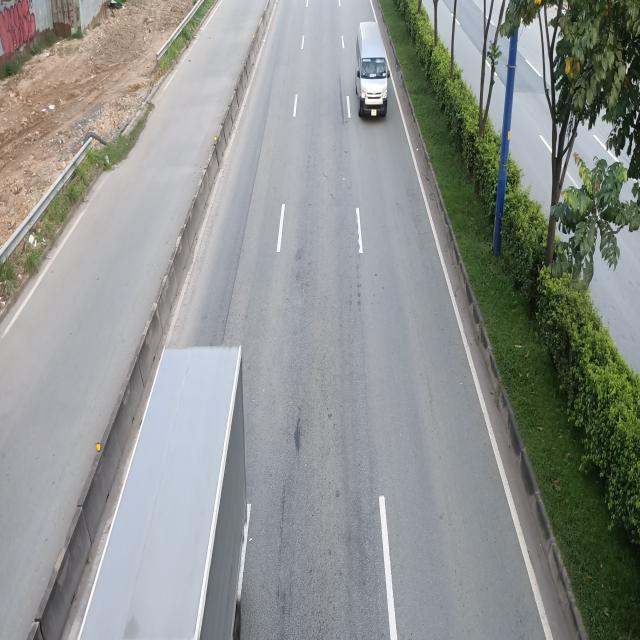van: (356, 21, 391, 119)
